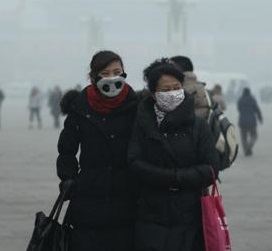person: (26, 47, 150, 251), (130, 54, 221, 251), (233, 86, 264, 159), (25, 82, 47, 131), (46, 83, 66, 130), (207, 80, 230, 110)
